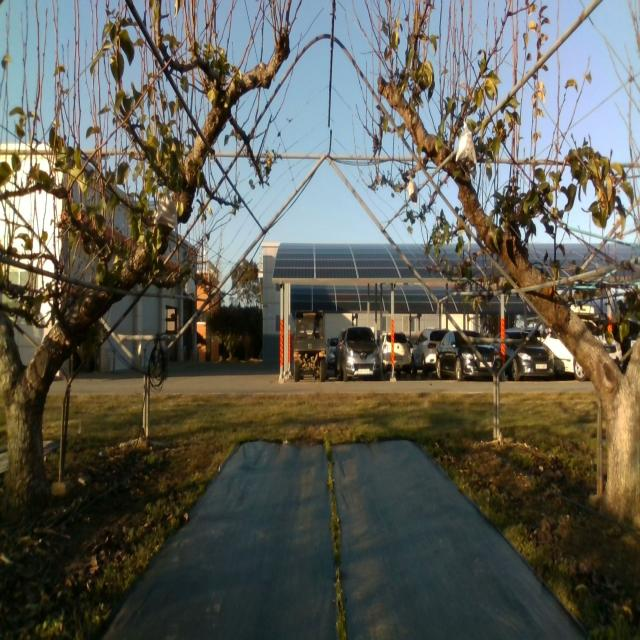pearbags: (456, 120, 476, 164), (154, 195, 178, 228), (185, 277, 196, 296)
